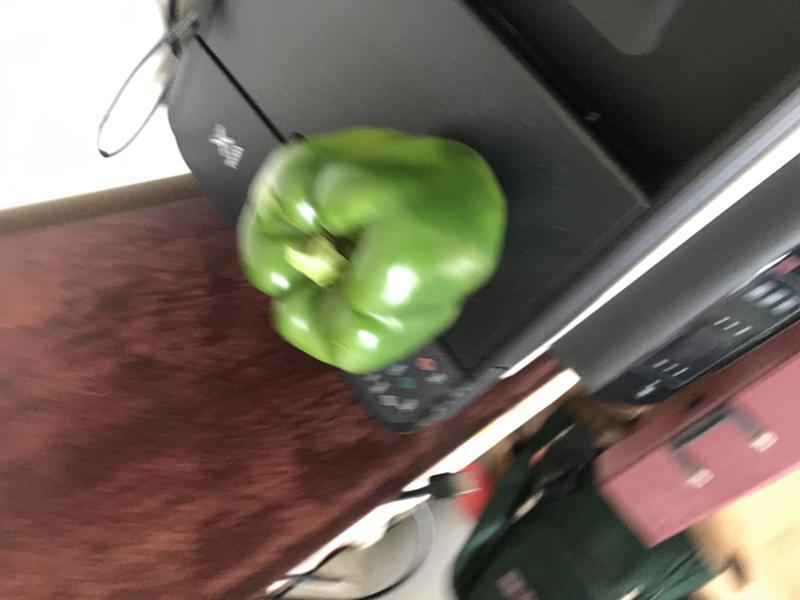green_pepper: (229, 119, 512, 374)
